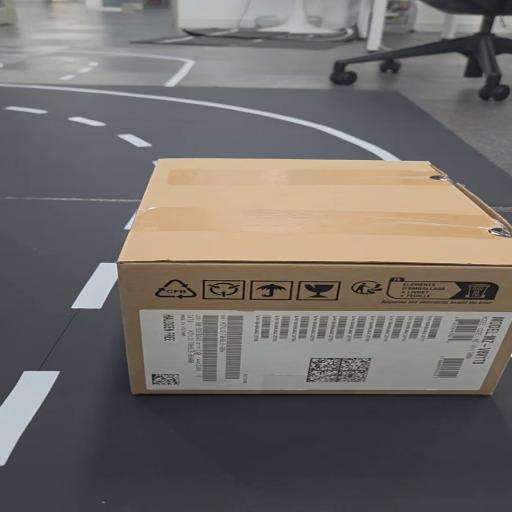Box: (99, 155, 512, 402)
